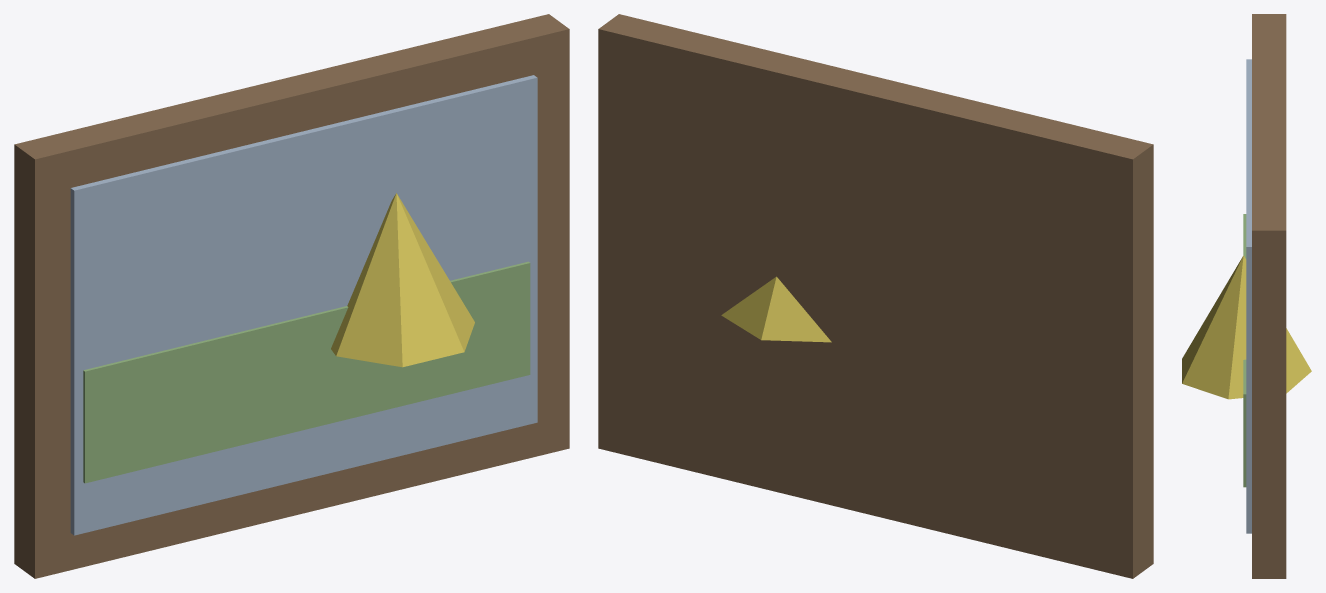
The model's file is Esya_Tablo.glb.
3 renders of one model, left to right at view 1: azimuth 30°, elevation 25°; view 2: azimuth 150°, elevation 25°; view 3: azimuth 270°, elevation 25°, orthographic. The views are drawn at different scales.
Visible parts, largest first — view 1: Esya_Tablo; view 2: Esya_Tablo; view 3: Esya_Tablo.
Boxes of the visible parts, x1,y1,x2,y2 form: Esya_Tablo: [14, 14, 569, 578]; Esya_Tablo: [598, 14, 1153, 578]; Esya_Tablo: [1182, 14, 1311, 578].
Size of the model in its own units: 0.6 by 0.45 by 0.1521.
